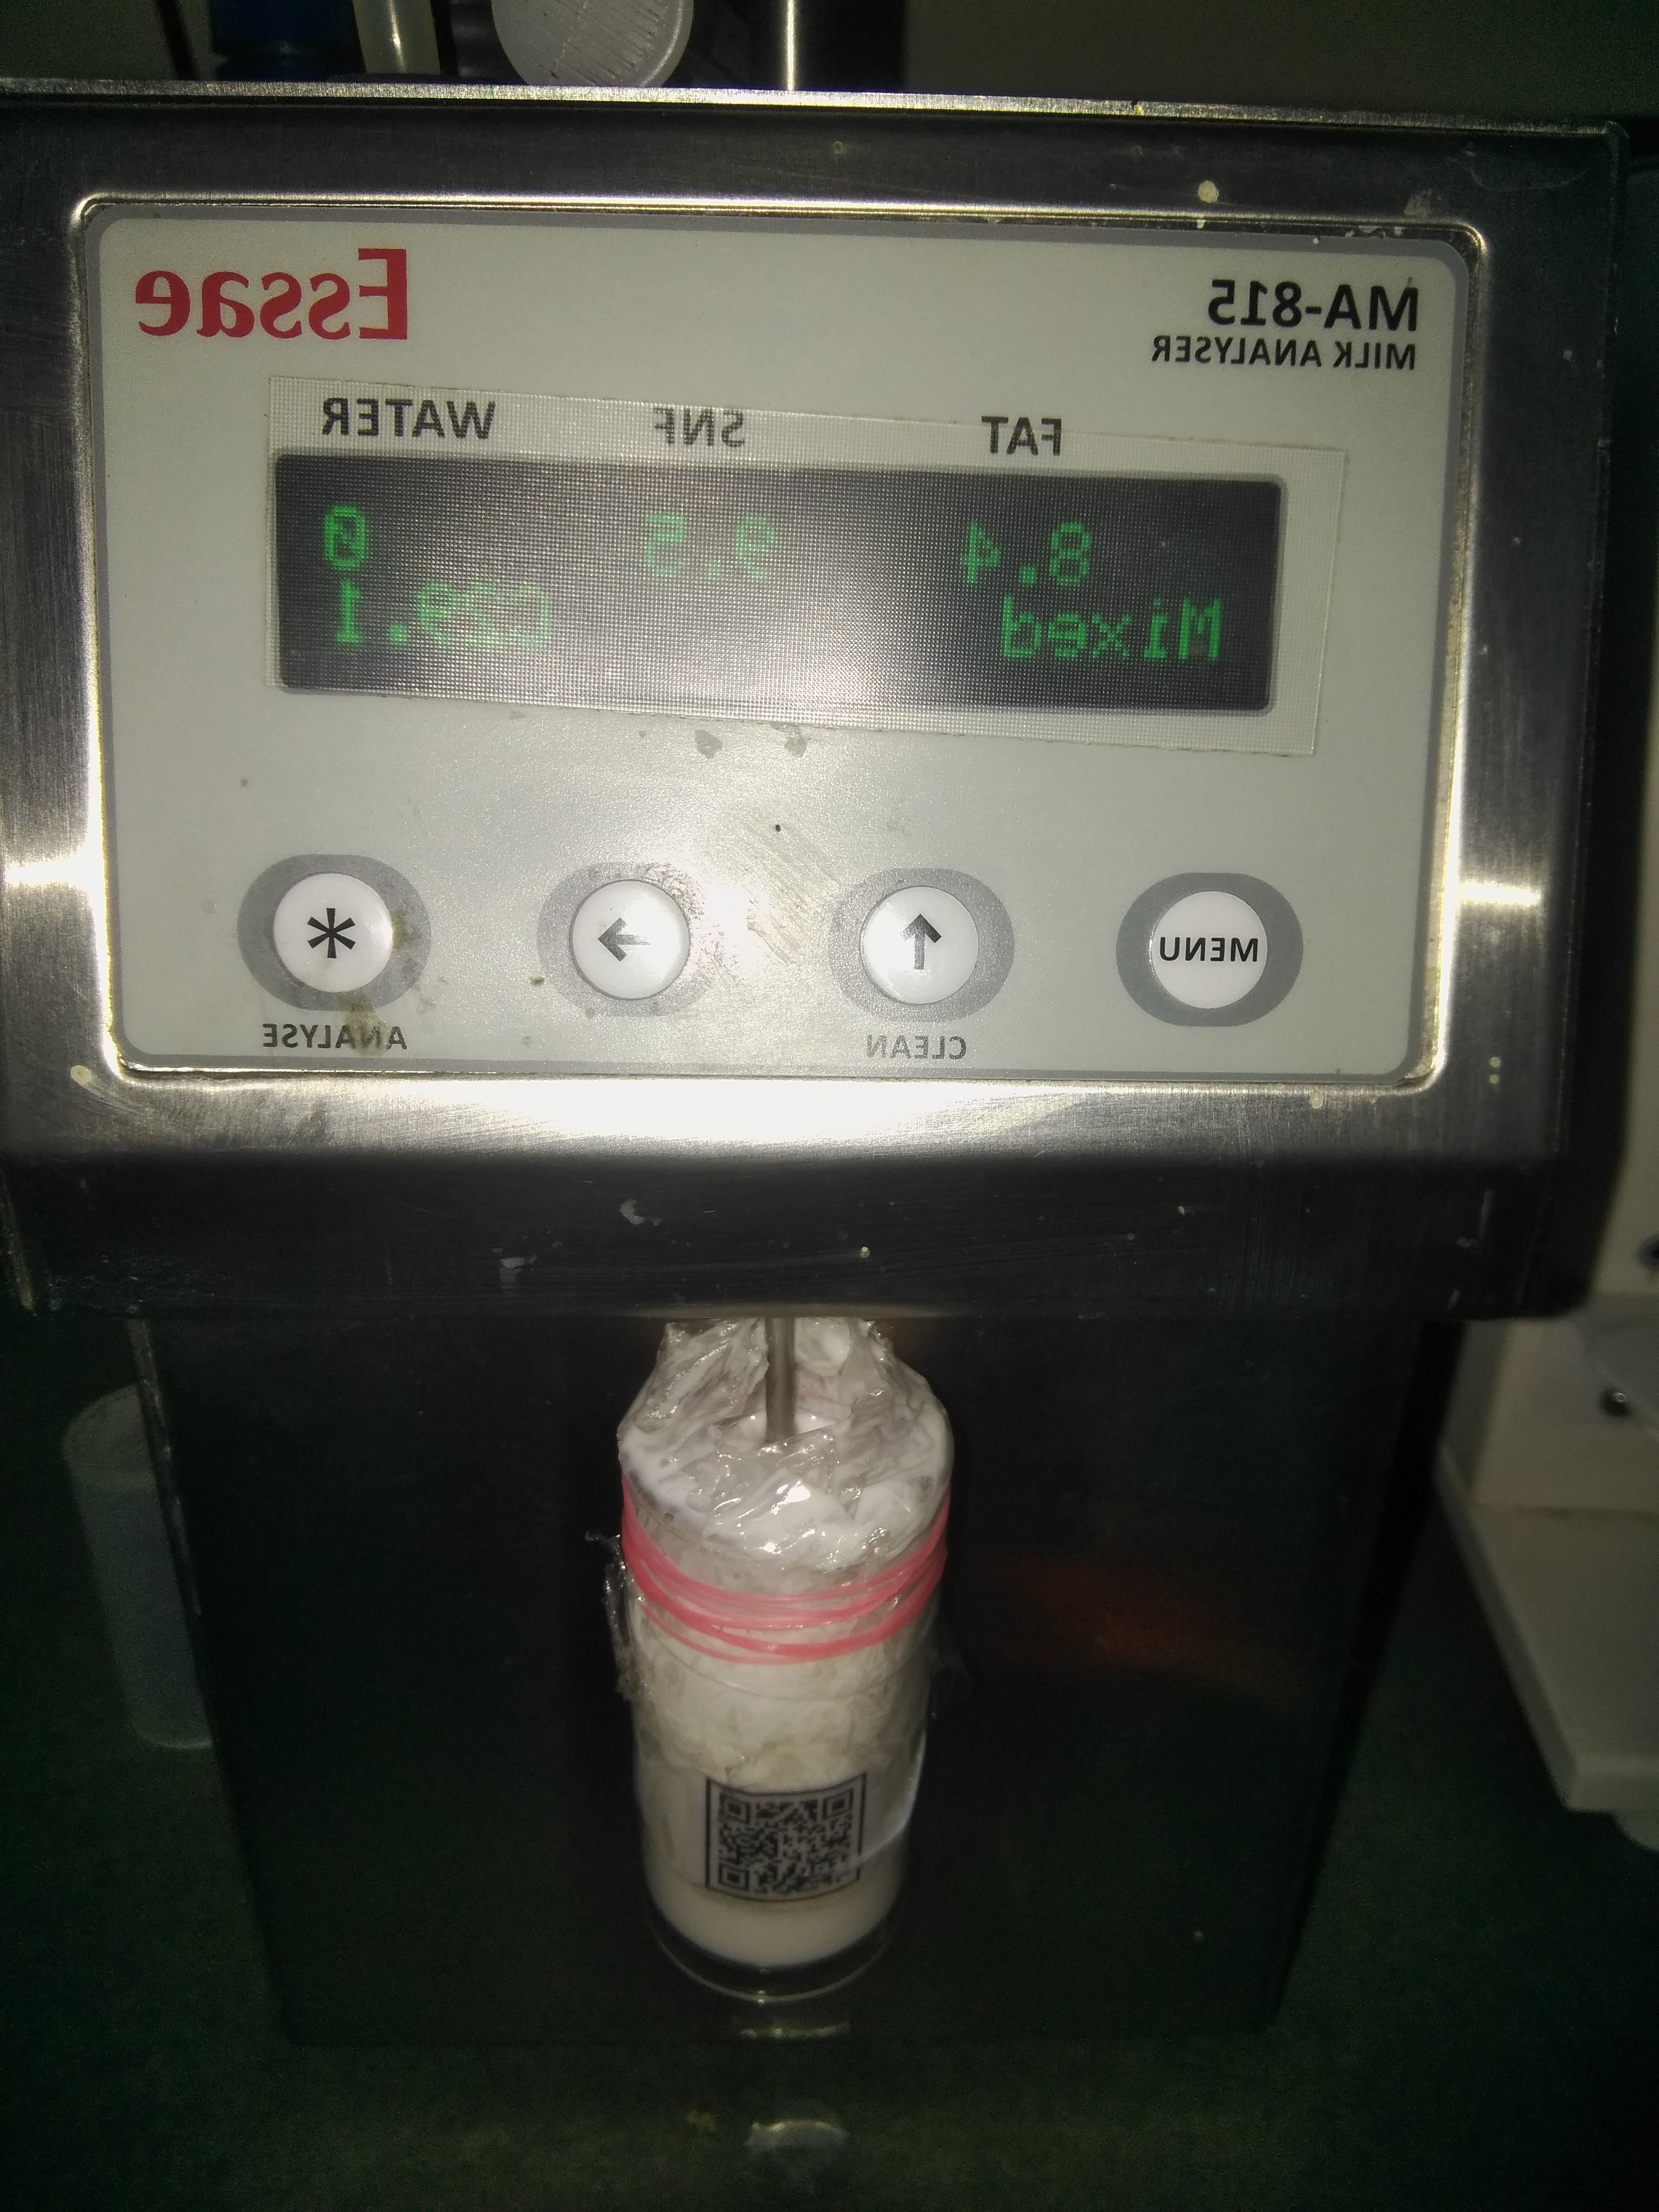lcd: (274, 432, 1305, 758)
qr: (701, 1768, 873, 1918)
